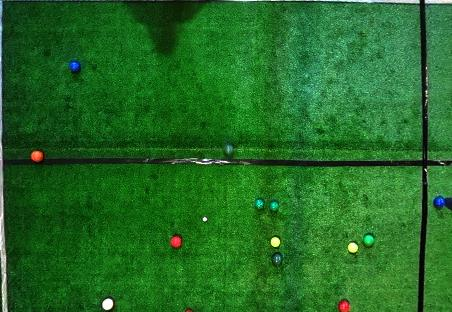blue: (433, 196, 445, 209), (70, 61, 80, 72)
green: (363, 234, 375, 248), (271, 253, 283, 265), (254, 199, 265, 210), (224, 144, 234, 156), (269, 201, 279, 212)
red: (31, 150, 44, 162), (102, 298, 114, 310), (338, 300, 351, 311), (171, 236, 182, 248), (183, 308, 195, 311)
vline: (417, 1, 452, 311), (0, 1, 13, 311)
white: (203, 217, 207, 221)
yellow: (348, 242, 359, 253), (270, 237, 281, 247)
